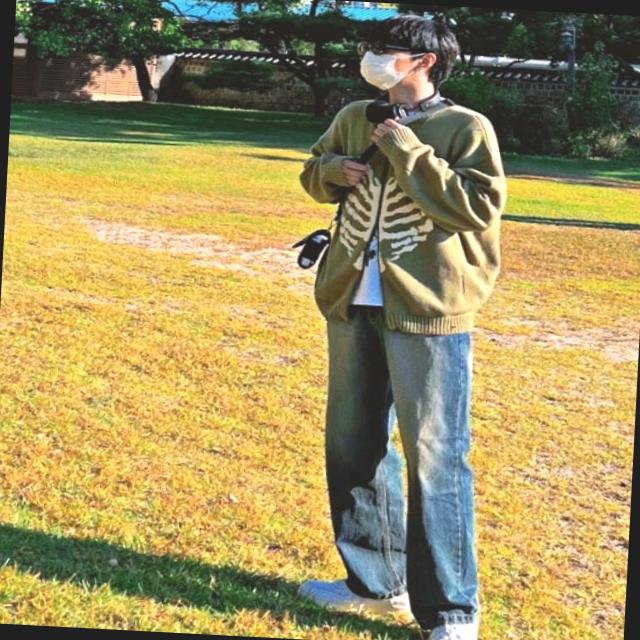cardigan: (290, 89, 512, 336)
denimpants: (307, 296, 498, 634)
